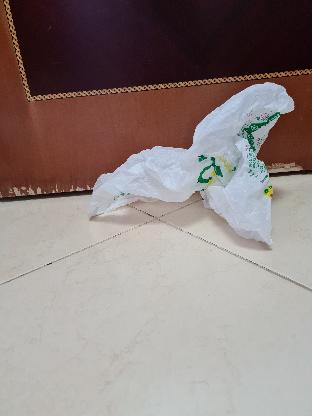Plastic Bag: (87, 82, 295, 246)
